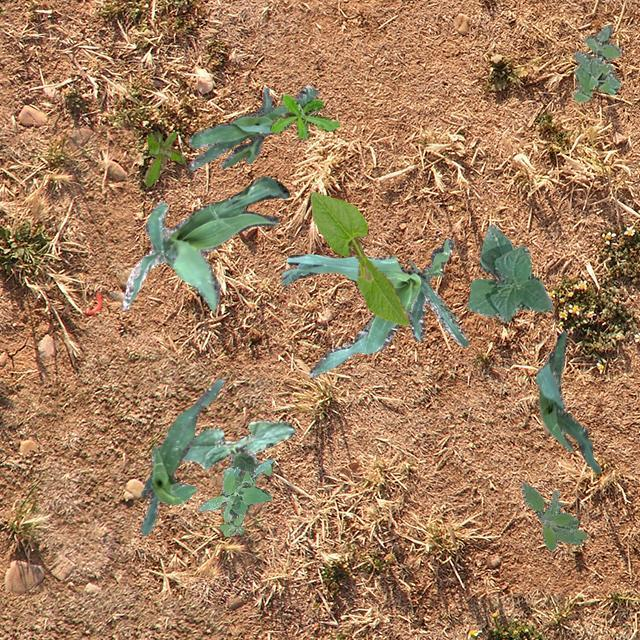crop: (280, 236, 466, 376), (120, 176, 288, 310), (310, 190, 408, 324), (140, 378, 222, 534), (188, 84, 318, 170), (534, 332, 600, 472), (466, 224, 552, 322), (180, 420, 294, 470)
weed: (196, 456, 272, 536), (521, 482, 585, 550), (572, 24, 620, 100), (268, 92, 338, 140), (143, 130, 184, 186)
